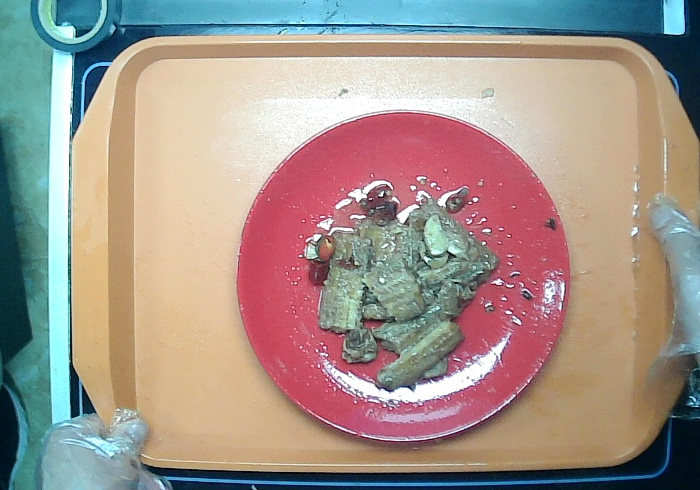HZYJPL-Hong_Se_Yuan_Pan: (233, 98, 574, 445)
